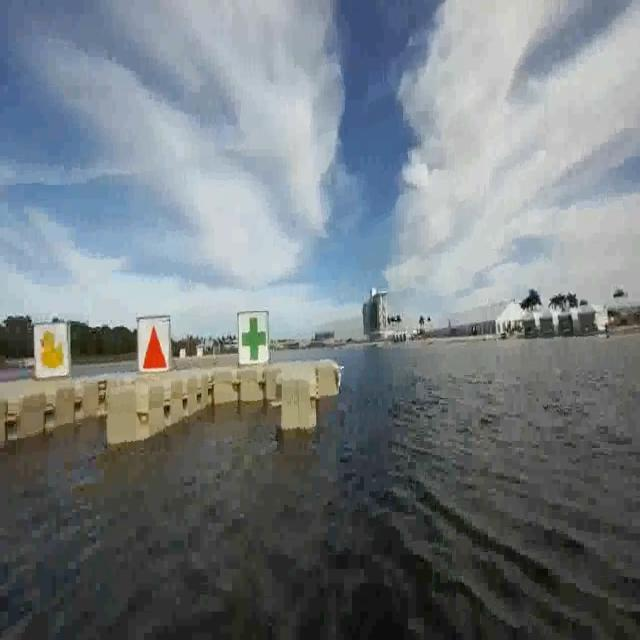blue-cross: (238, 308, 271, 369)
red-dot: (138, 318, 170, 376)
yellow-duck: (38, 329, 64, 370)
